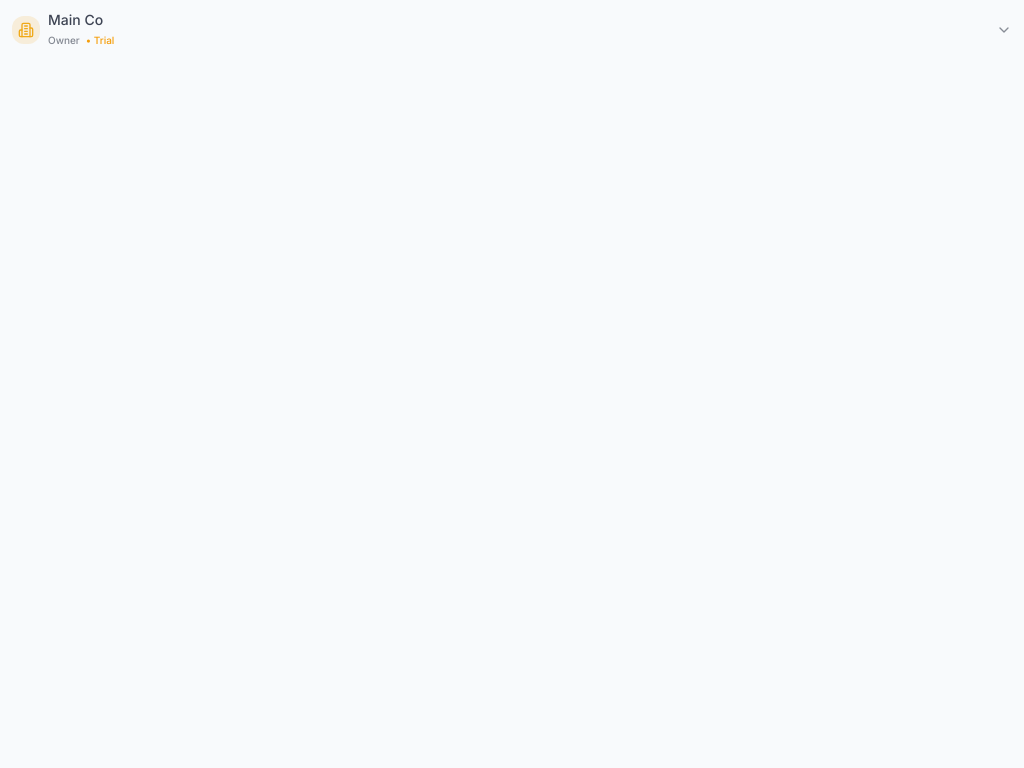
Test: WorkspaceSwitcher › opens the create-workspace dialog and shows the form once allowed
Press the mouse on the button "Main Co owner • Trial" at (76, 20), box [0,0,1023,60]
Click the button "Main Co owner • Trial" at (76, 20), box [0,0,1023,60]
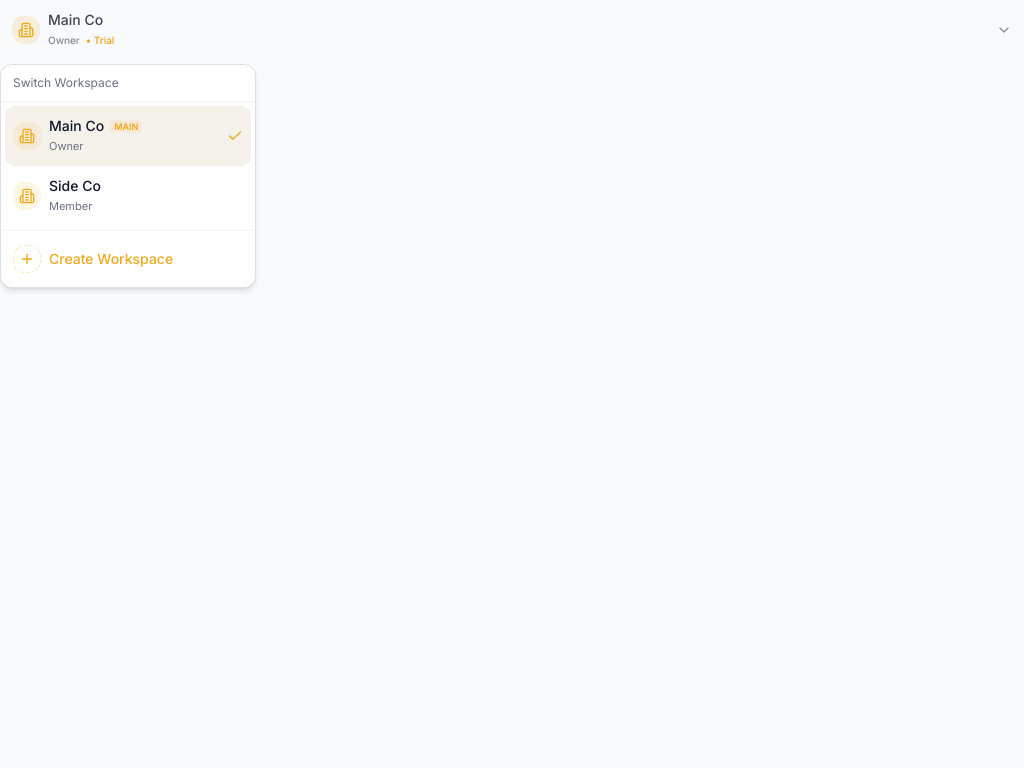
Click the menu item "Create Workspace" at (93, 259), box [13,245,173,273]
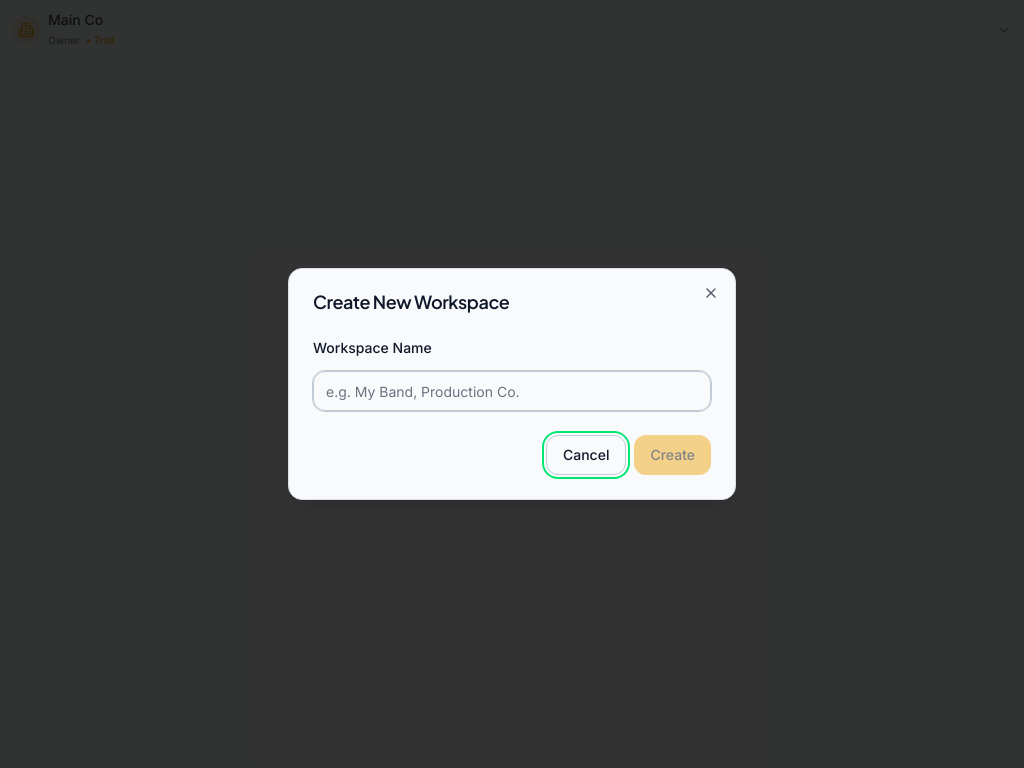
Expected: the field labelled "Workspace Name" is shown, [313,371,711,411]
